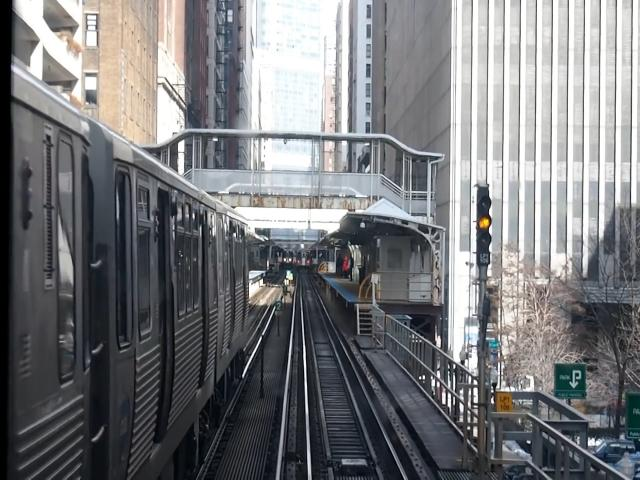signal light: (474, 179, 495, 276)
